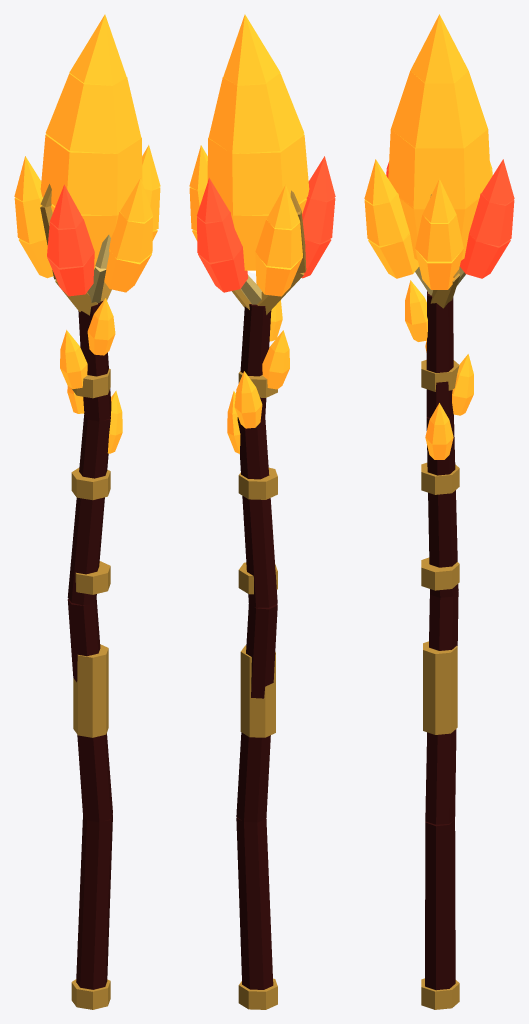
The model's file is scorchtongue_staff.glb.
The picture shows the model from 3 angles, left to right: view 1: azimuth 30°, elevation 25°; view 2: azimuth 150°, elevation 25°; view 3: azimuth 270°, elevation 25°; orthographic projection.
Visible parts, largest first — view 1: scorchtongue_staff; view 2: scorchtongue_staff; view 3: scorchtongue_staff.
Part boxes in pixels (x1,y1,x2,y2): scorchtongue_staff: (14,14,160,1009); scorchtongue_staff: (189,14,335,1009); scorchtongue_staff: (364,14,514,1009).
Bounding box in the file's own units: 0.3453 × 2.7 × 0.3704.
